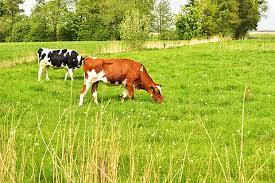cow: (79, 56, 165, 106), (38, 47, 85, 82)
